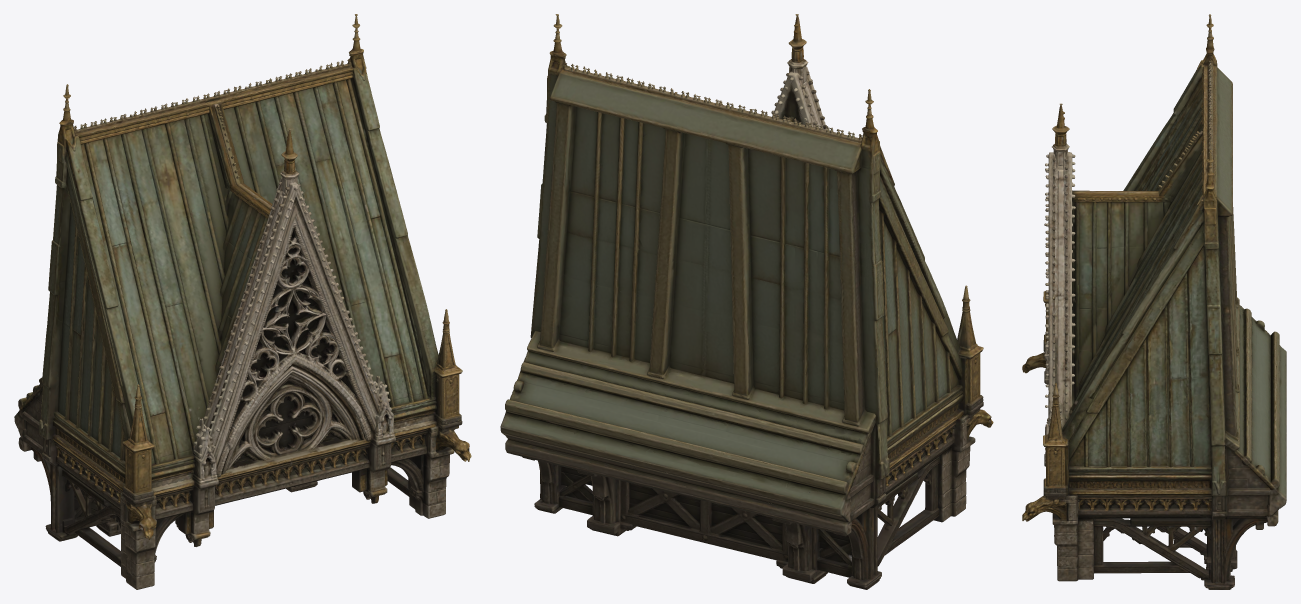
Rendered from gothic_facade.glb.
3 renders of one model, left to right at view 1: azimuth 30°, elevation 25°; view 2: azimuth 150°, elevation 25°; view 3: azimuth 270°, elevation 25°, orthographic. The views are drawn at different scales.
Size of the model in its own units: 0.7349 by 0.9793 by 0.5294.
1 material, 1 textured.
